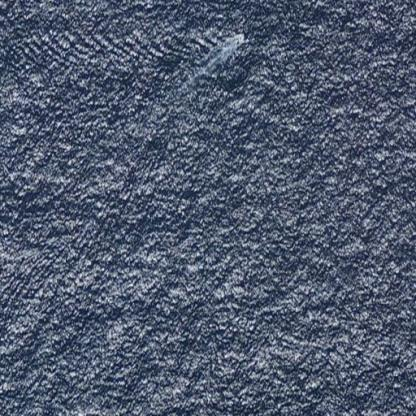ship: (221, 22, 256, 54)
